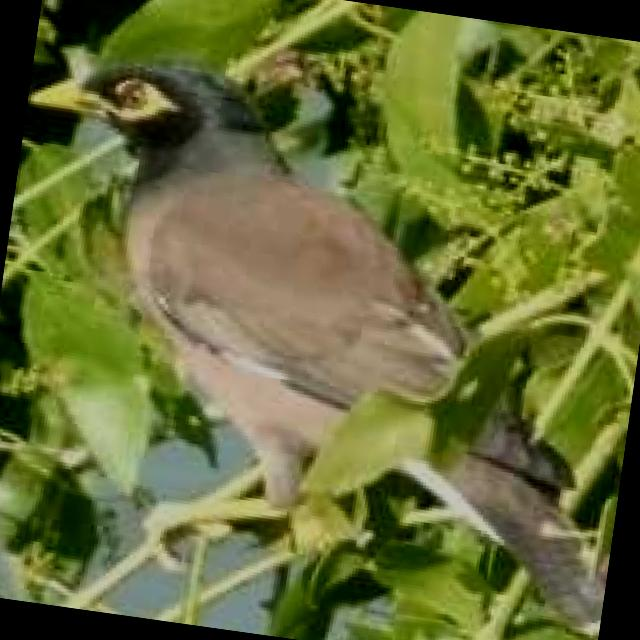bird: (0, 28, 640, 640)
